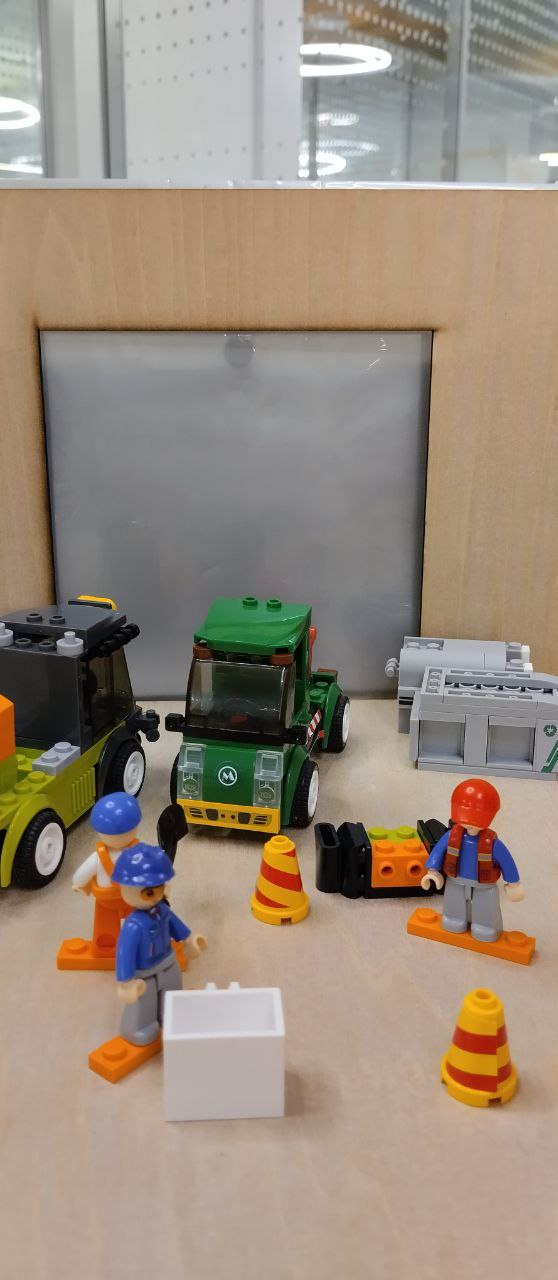Cone: (438, 988, 523, 1110), (251, 836, 310, 925)
Crane: (0, 587, 156, 891)
Object Black: (313, 816, 474, 900)
Object white: (160, 980, 292, 1127)
Truck: (166, 590, 351, 830)
